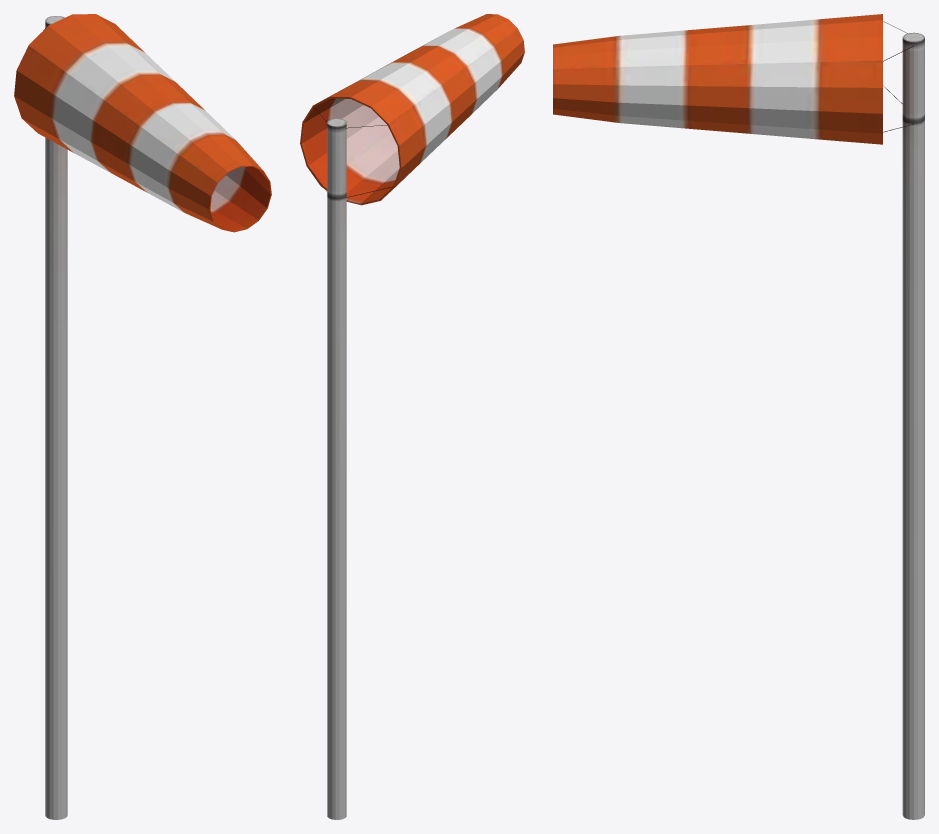
Rendered from venue-windsock.glb.
3 views of the same model, side by side, from view 1: azimuth 30°, elevation 25°; view 2: azimuth 150°, elevation 25°; view 3: azimuth 270°, elevation 25° (orthographic). The views are drawn at different scales.
Parts seen in each view (by area): view 1: NFT_0; view 2: NFT_0; view 3: NFT_0.
Boxes of the visible parts, <box> form: NFT_0: <box>14,14,271,819</box>; NFT_0: <box>300,14,524,819</box>; NFT_0: <box>553,14,924,819</box>.
Size of the model in its own units: 0.5968 by 3.99 by 1.69.
Materials: 1 (1 with a texture image).
